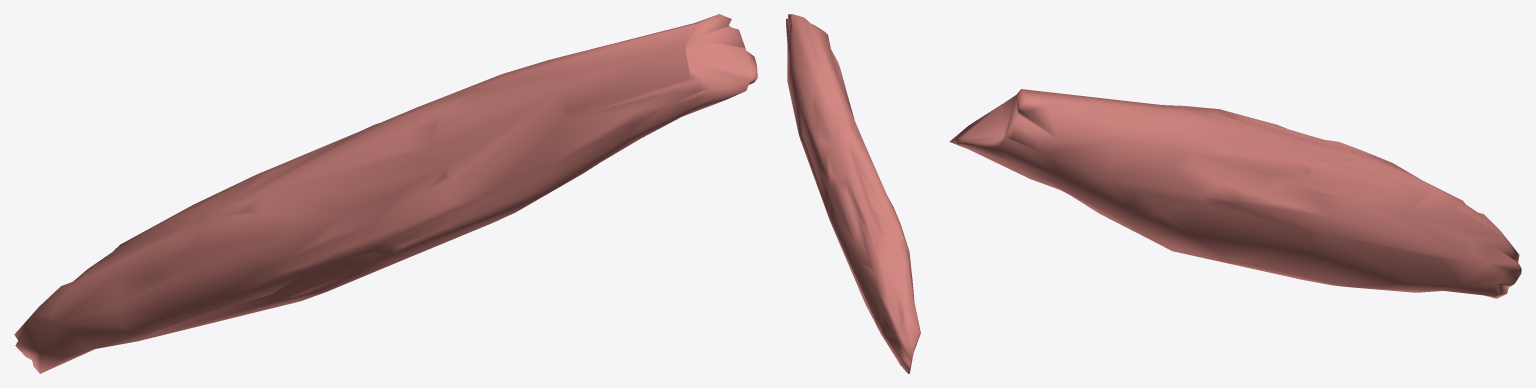
3 views of the same model, side by side, from view 1: azimuth 30°, elevation 25°; view 2: azimuth 150°, elevation 25°; view 3: azimuth 270°, elevation 25° (orthographic). The views are drawn at different scales.
Parts seen in each view (by area): view 1: ZA_4691e6c4bc69ae9c; view 2: ZA_4691e6c4bc69ae9c; view 3: ZA_4691e6c4bc69ae9c.
Part boxes in pixels (x1,y1,x2,y2): ZA_4691e6c4bc69ae9c: (14,14,757,373); ZA_4691e6c4bc69ae9c: (786,14,920,373); ZA_4691e6c4bc69ae9c: (949,89,1521,298).
Bounding box in the file's own units: 0.0387 × 0.0315 × 0.0378.
